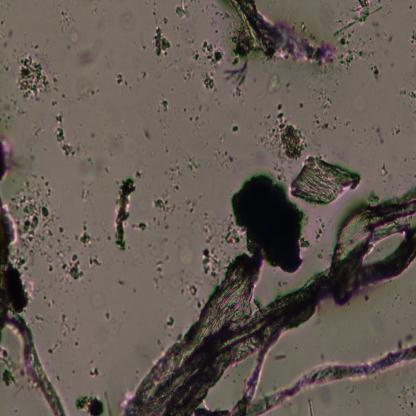Background material: (18, 183, 86, 279), (0, 196, 31, 316), (292, 154, 362, 204), (334, 1, 381, 72), (266, 109, 306, 163), (112, 172, 138, 252), (45, 306, 84, 356), (15, 51, 50, 103), (77, 128, 110, 178), (191, 38, 223, 89), (152, 164, 184, 213), (166, 271, 205, 311), (309, 87, 340, 131), (0, 89, 31, 131), (200, 237, 228, 281), (54, 4, 80, 51), (0, 340, 23, 390), (70, 221, 111, 248), (54, 110, 76, 158), (217, 133, 239, 173), (77, 32, 99, 71), (358, 119, 388, 147), (150, 22, 173, 58), (16, 150, 41, 182), (25, 113, 48, 147), (0, 135, 15, 186), (174, 234, 196, 268), (394, 381, 416, 412), (75, 393, 104, 416), (150, 251, 166, 292), (156, 57, 186, 78), (223, 72, 244, 102), (184, 150, 206, 178), (119, 7, 140, 34), (177, 60, 200, 84), (20, 276, 45, 298), (148, 212, 176, 231), (178, 0, 201, 23), (391, 86, 416, 107), (182, 103, 205, 125), (77, 79, 102, 99), (205, 1, 225, 25), (114, 70, 134, 92), (0, 22, 14, 52), (270, 347, 296, 363), (266, 72, 284, 94), (393, 332, 413, 351), (365, 63, 383, 84), (154, 6, 172, 26), (389, 290, 405, 312), (86, 254, 106, 271), (98, 307, 115, 327), (201, 213, 214, 239), (406, 24, 416, 57), (370, 18, 385, 40), (132, 221, 152, 237), (313, 220, 327, 240), (49, 73, 63, 93), (24, 37, 44, 51), (151, 330, 163, 353), (376, 161, 390, 180), (303, 395, 316, 415), (158, 96, 172, 114), (85, 363, 99, 380), (319, 388, 331, 406), (80, 182, 92, 200), (278, 276, 292, 291), (29, 310, 46, 322), (141, 123, 152, 140), (302, 234, 312, 252), (0, 54, 10, 72), (317, 345, 327, 363), (386, 31, 398, 44), (45, 296, 58, 308), (137, 38, 147, 51), (392, 126, 402, 139), (162, 143, 172, 156), (112, 278, 126, 287), (138, 73, 150, 83), (48, 98, 61, 107), (231, 122, 240, 134), (346, 385, 356, 395), (6, 0, 14, 11), (58, 90, 68, 98), (89, 8, 99, 16), (167, 318, 176, 326), (408, 1, 414, 12), (285, 81, 291, 91), (276, 103, 282, 112), (161, 237, 167, 245), (408, 299, 414, 306), (214, 28, 220, 34), (300, 102, 304, 110)
Cellulose filter fibre: (169, 189, 416, 416), (122, 254, 260, 416), (254, 341, 416, 416), (220, 0, 333, 71), (0, 306, 66, 416)
Fragment: (230, 170, 304, 273)
